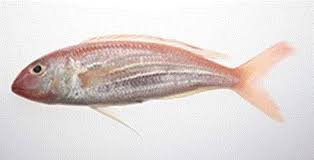Ikan Kerisi: (11, 33, 286, 116)
